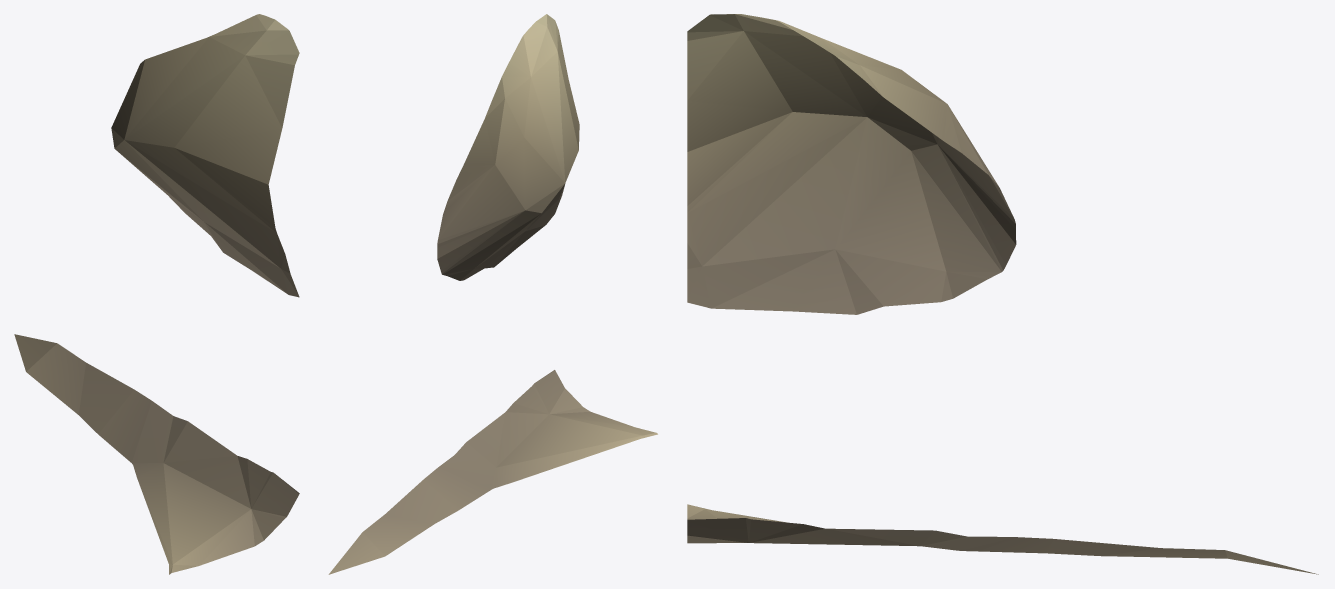
The model's file is bisect-6-4-6.gltf.
3 renders of one model, left to right at view 1: azimuth 30°, elevation 25°; view 2: azimuth 150°, elevation 25°; view 3: azimuth 270°, elevation 25°, orthographic. The views are drawn at different scales.
Parts seen in each view (by area): view 1: bisect-6-4-6; view 2: bisect-6-4-6; view 3: bisect-6-4-6.
Boxes of the visible parts, x1,y1,x2,y2 form: bisect-6-4-6: [14, 14, 299, 574]; bisect-6-4-6: [328, 14, 657, 574]; bisect-6-4-6: [687, 14, 1318, 574].
Bounding box in the file's own units: 3.82 × 14.14 × 14.48.
